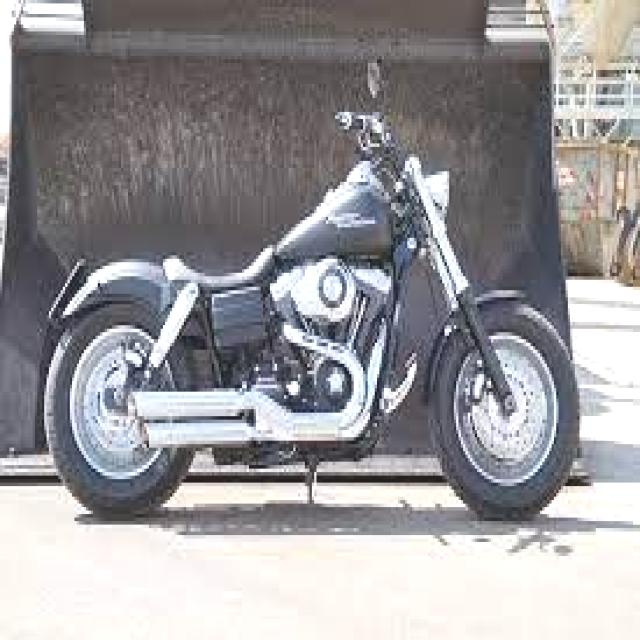MOTORCYCLE: (14, 154, 584, 522)
